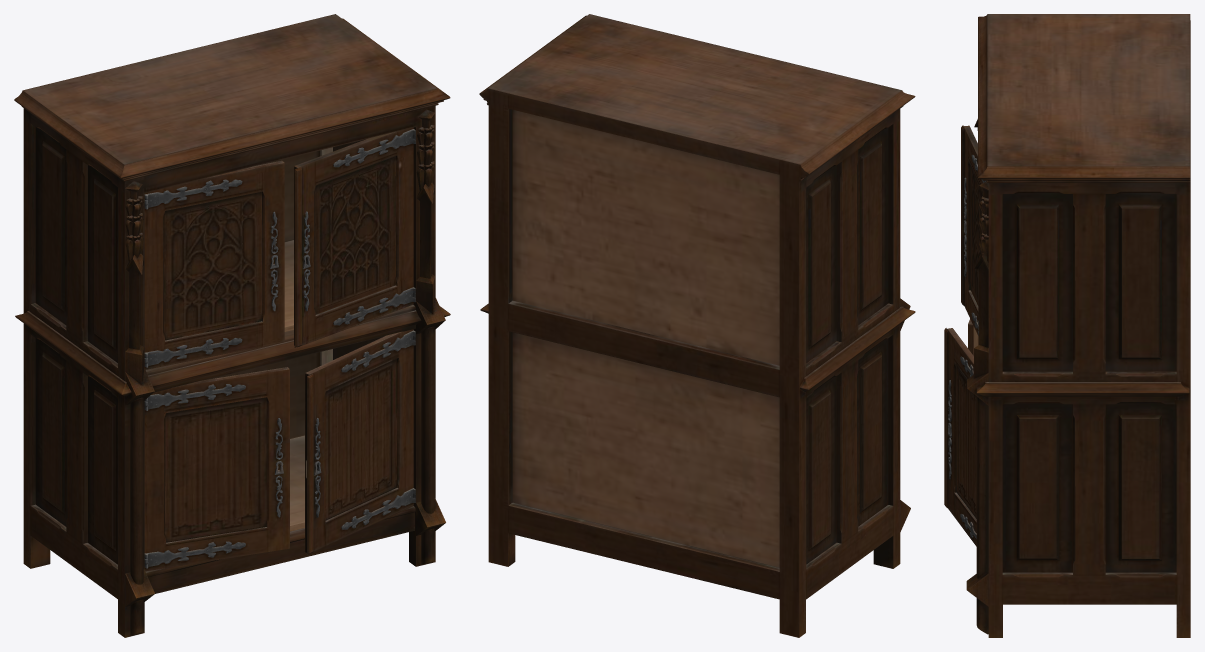
File: GothicCabinet_01_lod1.glb
3 views of the same model, side by side, from view 1: azimuth 30°, elevation 25°; view 2: azimuth 150°, elevation 25°; view 3: azimuth 270°, elevation 25° (orthographic).
Visible parts, largest first — view 1: GothicCabinet_01_cabinet, GothicCabinet_01_door3, GothicCabinet_01_door1, GothicCabinet_01_door2, GothicCabinet_01_door4; view 2: GothicCabinet_01_cabinet; view 3: GothicCabinet_01_cabinet, GothicCabinet_01_door4, GothicCabinet_01_door2.
Boxes of the visible parts, left/top/right/bottom form: GothicCabinet_01_cabinet: left=14, top=14, right=450, bottom=637; GothicCabinet_01_door3: left=144, top=367, right=289, bottom=571; GothicCabinet_01_door1: left=144, top=160, right=284, bottom=369; GothicCabinet_01_door2: left=294, top=127, right=415, bottom=347; GothicCabinet_01_door4: left=305, top=329, right=415, bottom=554; GothicCabinet_01_cabinet: left=479, top=14, right=915, bottom=637; GothicCabinet_01_cabinet: left=966, top=14, right=1190, bottom=637; GothicCabinet_01_door4: left=944, top=328, right=976, bottom=546; GothicCabinet_01_door2: left=961, top=125, right=986, bottom=335.
Bounding box in the file's own units: 1.72 × 2.36 × 1.12.
1 material, 1 textured.
